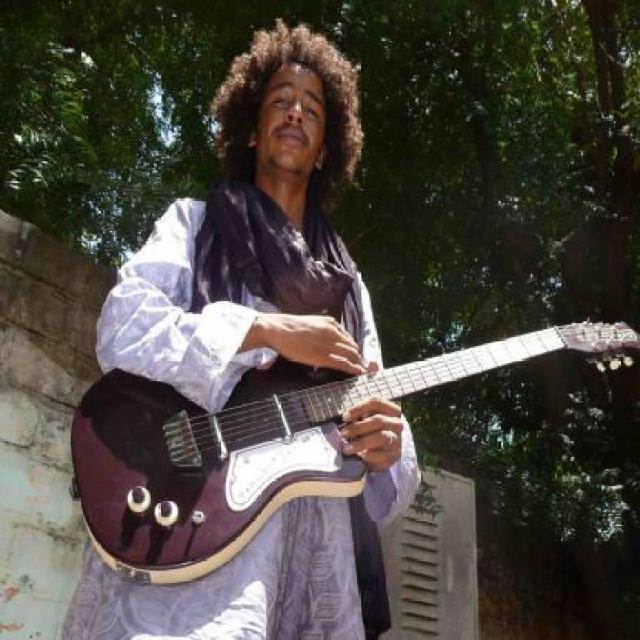sem_oculos: (252, 75, 350, 128)
